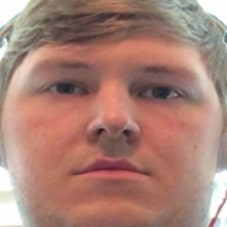awake: (26, 54, 208, 203)
